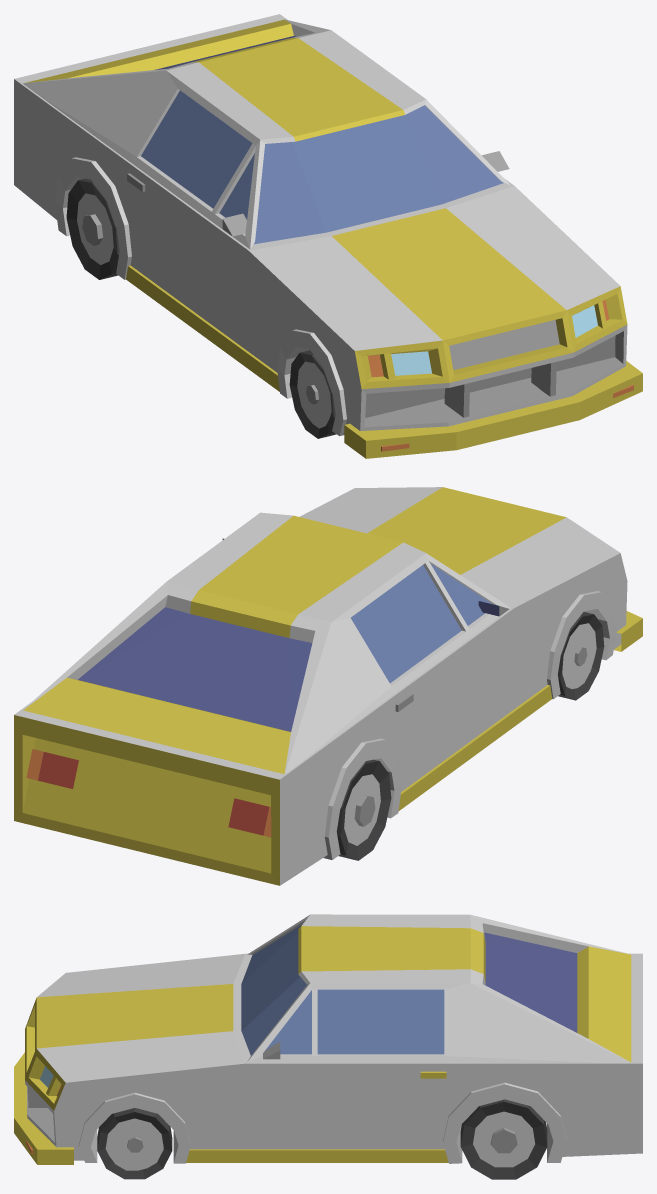
File: transport_sport_003.fbx
3 renders of one model, top to bottom at view 1: azimuth 30°, elevation 25°; view 2: azimuth 150°, elevation 25°; view 3: azimuth 270°, elevation 25°, orthographic. The views are drawn at different scales.
Parts seen in each view (by area): view 1: transport_sport_003; view 2: transport_sport_003; view 3: transport_sport_003.
Boxes of the visible parts, x1,y1,x2,y2 form: transport_sport_003: (14, 14, 642, 458); transport_sport_003: (14, 487, 642, 885); transport_sport_003: (14, 914, 642, 1179).
Bounding box in the file's own units: 163 × 116 × 378.
